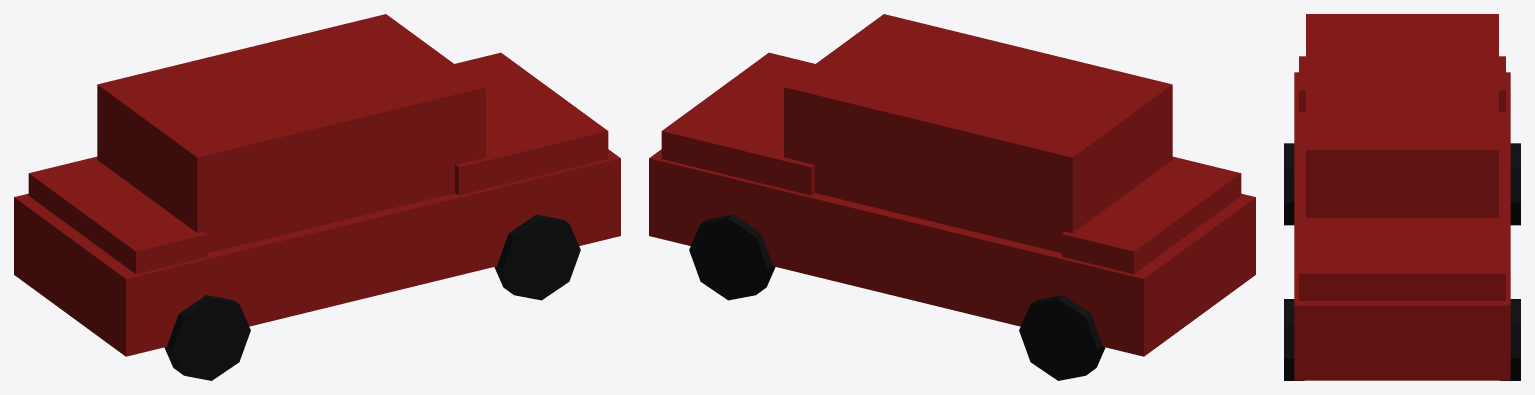
File: proxy_suv_red.dae
3 views of the same model, side by side, from view 1: azimuth 30°, elevation 25°; view 2: azimuth 150°, elevation 25°; view 3: azimuth 270°, elevation 25° (orthographic). The views are drawn at different scales.
Visible parts, largest first — view 1: proxy_suv; view 2: proxy_suv; view 3: proxy_suv.
Part boxes in pixels (<box>): proxy_suv: <box>14,14,620,380</box>; proxy_suv: <box>649,14,1255,380</box>; proxy_suv: <box>1284,14,1520,380</box>.
Bounding box in the file's own units: 4.8 × 2.06 × 2.
